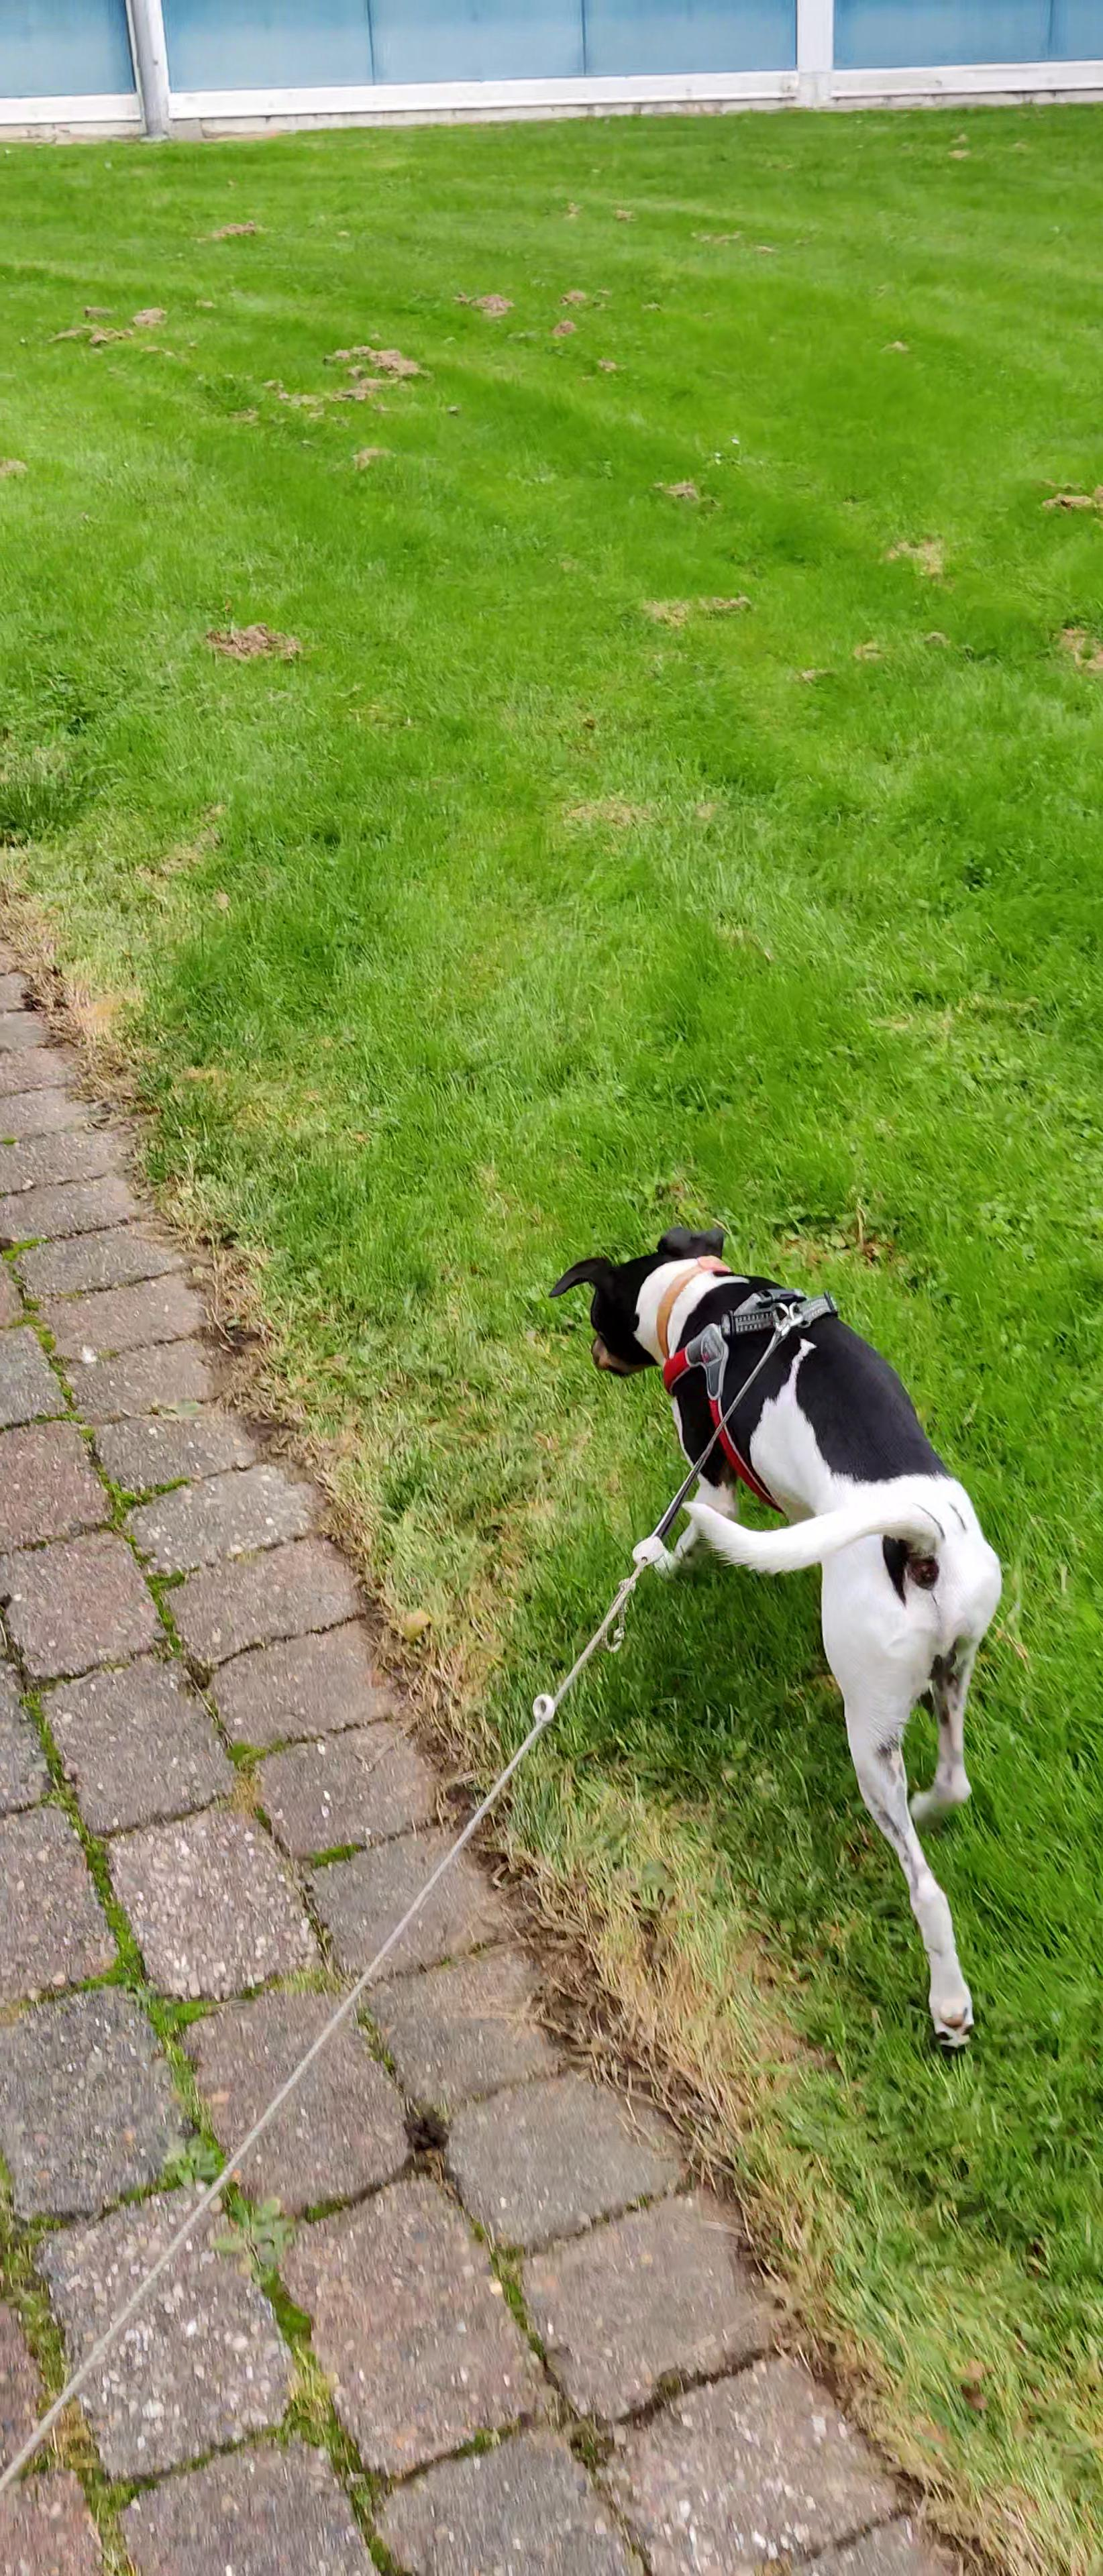Dog: (538, 1222, 1014, 2049)
